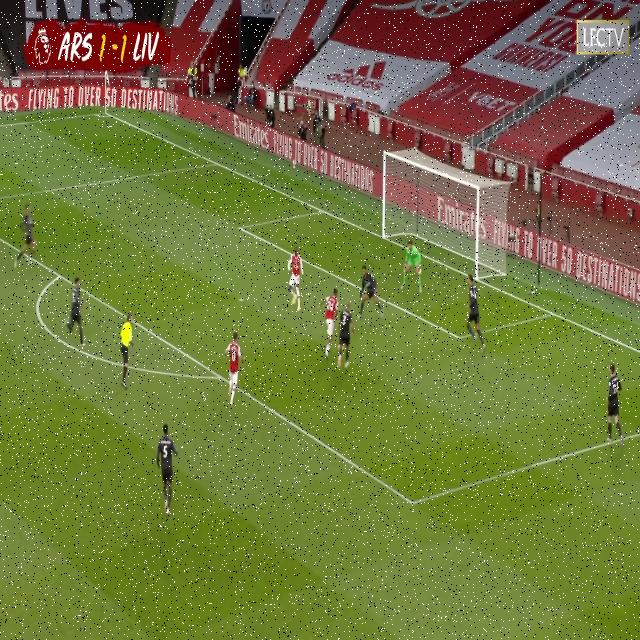Ball: (338, 343, 343, 351)
GoalKeeper: (401, 240, 424, 296)
TEAM 1: (227, 332, 244, 410), (322, 288, 340, 361), (289, 247, 304, 303)
TEAM 2: (155, 422, 178, 516), (604, 364, 626, 443), (466, 276, 485, 352), (357, 265, 381, 319), (336, 301, 354, 370), (19, 200, 39, 262), (67, 275, 85, 336)
